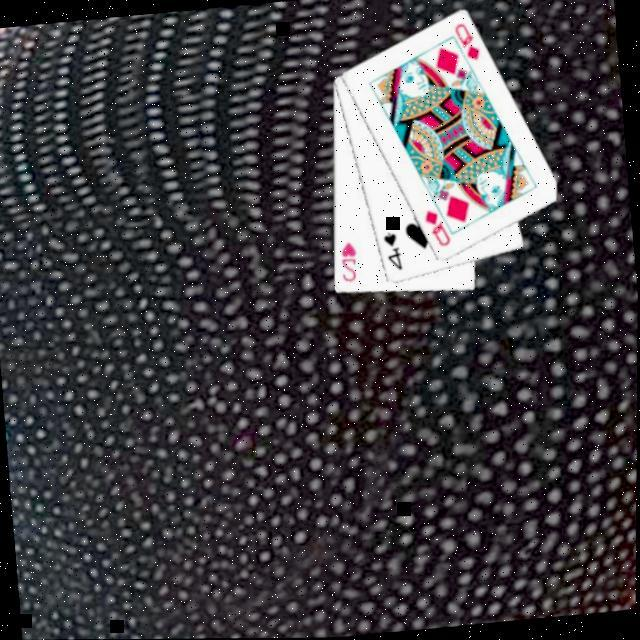2H: (334, 237, 360, 284)
4S: (378, 227, 404, 273)
QD: (418, 203, 452, 250), (448, 18, 482, 64)
